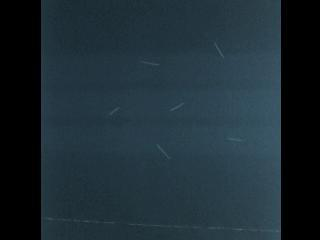crack: (41, 216, 279, 235)
scratch: (135, 56, 164, 70), (152, 141, 172, 161), (209, 39, 225, 61), (224, 135, 248, 144), (107, 105, 123, 117), (168, 101, 185, 112)
